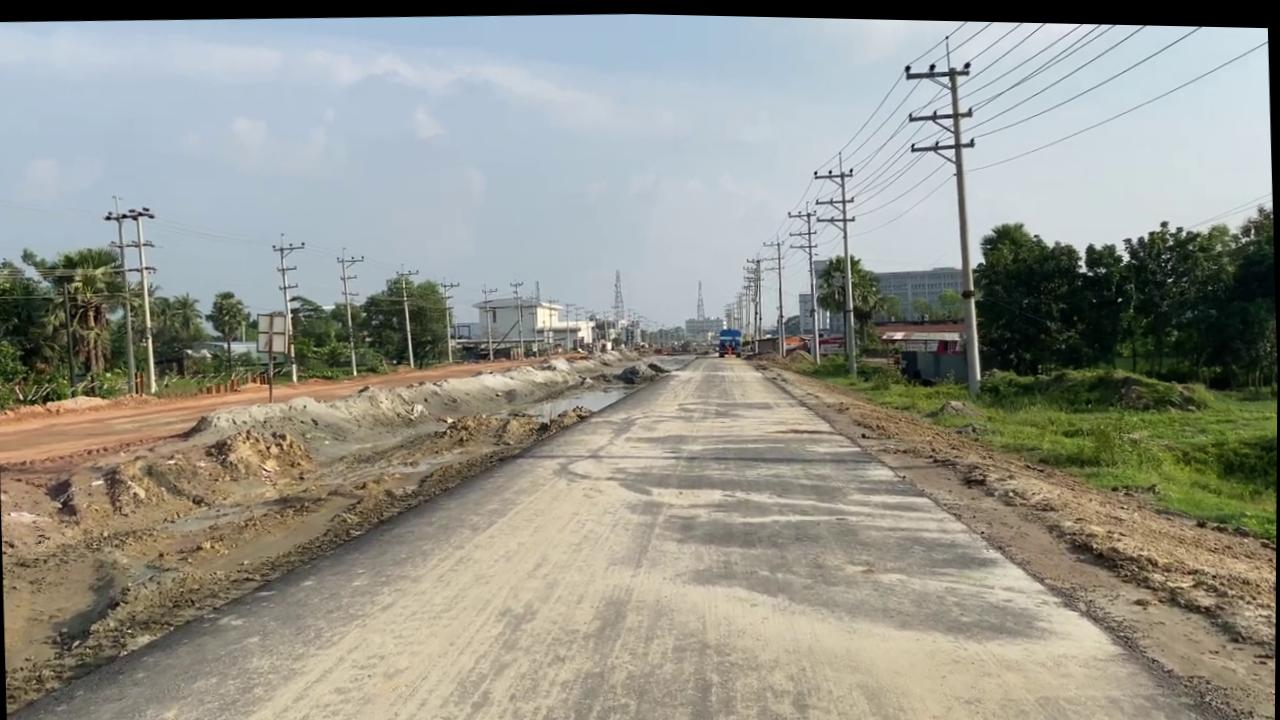Garbage: (0, 329, 687, 720)
Muddy road: (0, 340, 537, 720)
Obstacle: (878, 322, 969, 383)
Pole: (901, 34, 986, 396), (811, 156, 862, 377), (127, 205, 162, 394), (270, 231, 309, 382), (335, 244, 368, 375), (393, 261, 422, 367)
Rickshaw: (363, 314, 1235, 720)
Traffic-sign: (812, 247, 888, 360), (204, 288, 251, 374)
Tree: (717, 324, 744, 355)
